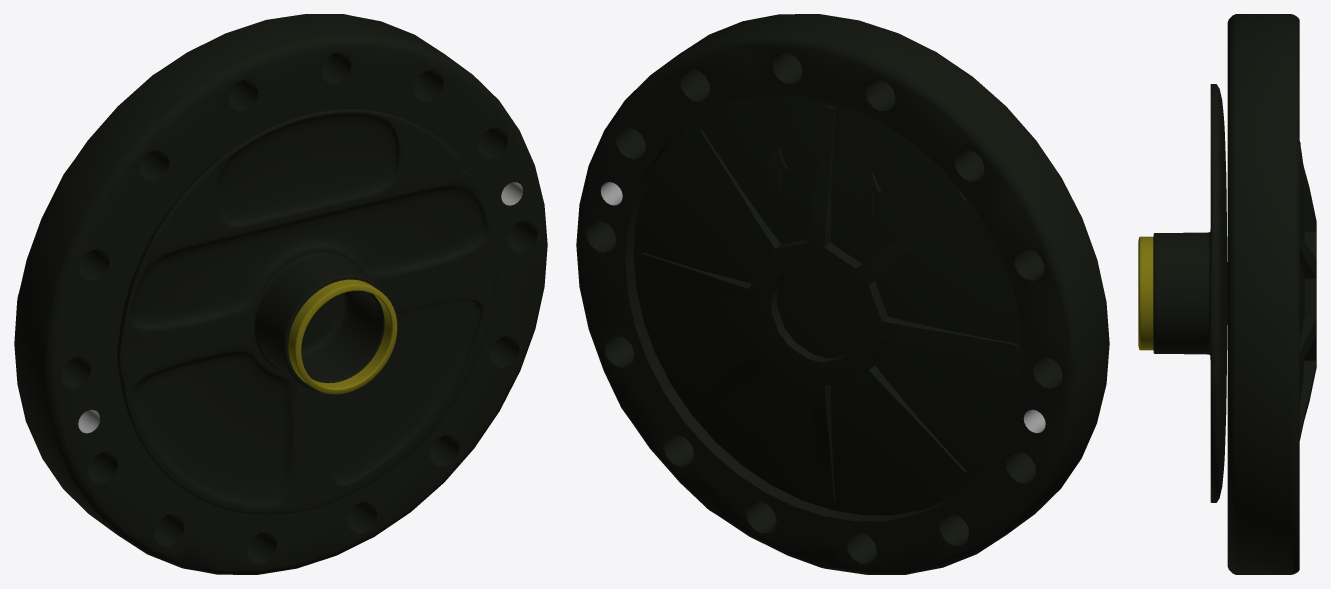
Rendered from houduangai.FBX.
3 renders of one model, left to right at view 1: azimuth 30°, elevation 25°; view 2: azimuth 150°, elevation 25°; view 3: azimuth 270°, elevation 25°, orthographic. The views are drawn at different scales.
Visible parts, largest first — view 1: houduangai; view 2: houduangai; view 3: houduangai.
Part boxes in pixels (x1=…): houduangai: x1=14, y1=14, x2=547, y2=574; houduangai: x1=576, y1=14, x2=1109, y2=574; houduangai: x1=1138, y1=14, x2=1316, y2=574.
Size of the model in its own units: 301 by 301 by 95.67.
